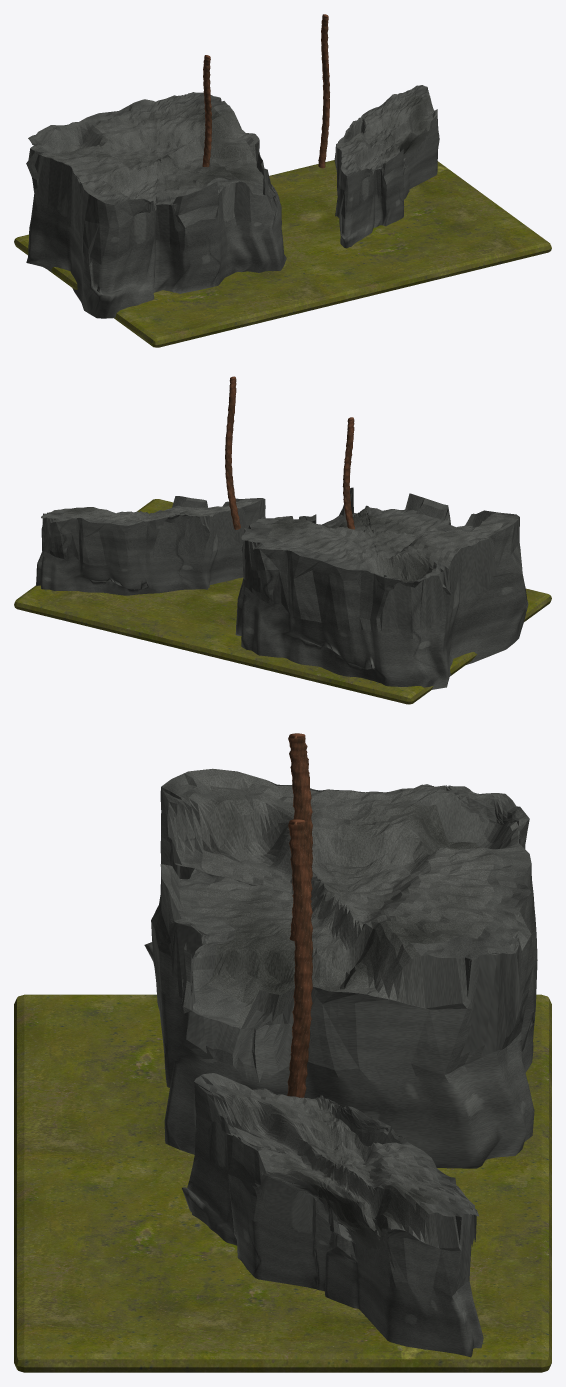
Rendered from f3_rebar_rubble.glb.
3 views of the same model, one above another, from view 1: azimuth 30°, elevation 25°; view 2: azimuth 150°, elevation 25°; view 3: azimuth 270°, elevation 25° (orthographic). The views are drawn at different scales.
Visible parts, largest first — view 1: f3_damp_concrete_surface, F3_CONCRETE_BROKEN_INTERIOR_WITH_EMBEDDED_STONES_surface, F3_OLD_CONCRETE_INTACT_AND_FRACTURE_surface, F3_CONCRETE_BROKEN_INTERIOR_WITH_EMBEDDED_STONES.001_surface, F3_OLD_CONCRETE_INTACT_AND_FRACTURE.001_surface, oxidized_reinforcing_steel.001_surface, oxidized_reinforcing_steel_surface; view 2: F3_CONCRETE_BROKEN_INTERIOR_WITH_EMBEDDED_STONES_surface, F3_CONCRETE_BROKEN_INTERIOR_WITH_EMBEDDED_STONES.001_surface, f3_damp_concrete_surface, F3_OLD_CONCRETE_INTACT_AND_FRACTURE_surface, F3_OLD_CONCRETE_INTACT_AND_FRACTURE.001_surface, oxidized_reinforcing_steel.001_surface, oxidized_reinforcing_steel_surface; view 3: f3_damp_concrete_surface, F3_CONCRETE_BROKEN_INTERIOR_WITH_EMBEDDED_STONES_surface, F3_OLD_CONCRETE_INTACT_AND_FRACTURE_surface, F3_CONCRETE_BROKEN_INTERIOR_WITH_EMBEDDED_STONES.001_surface, F3_OLD_CONCRETE_INTACT_AND_FRACTURE.001_surface, oxidized_reinforcing_steel.001_surface, oxidized_reinforcing_steel_surface.
Part boxes in pixels (left/top/right/bottom): f3_damp_concrete_surface: left=14, top=160, right=551, bottom=347; F3_CONCRETE_BROKEN_INTERIOR_WITH_EMBEDDED_STONES_surface: left=26, top=92, right=286, bottom=318; F3_OLD_CONCRETE_INTACT_AND_FRACTURE_surface: left=44, top=103, right=272, bottom=203; F3_CONCRETE_BROKEN_INTERIOR_WITH_EMBEDDED_STONES.001_surface: left=334, top=85, right=439, bottom=248; F3_OLD_CONCRETE_INTACT_AND_FRACTURE.001_surface: left=336, top=93, right=437, bottom=173; oxidized_reinforcing_steel.001_surface: left=318, top=14, right=329, bottom=168; oxidized_reinforcing_steel_surface: left=202, top=55, right=211, bottom=167; F3_CONCRETE_BROKEN_INTERIOR_WITH_EMBEDDED_STONES_surface: left=235, top=487, right=528, bottom=689; F3_CONCRETE_BROKEN_INTERIOR_WITH_EMBEDDED_STONES.001_surface: left=36, top=496, right=265, bottom=595; f3_damp_concrete_surface: left=14, top=499, right=551, bottom=704; F3_OLD_CONCRETE_INTACT_AND_FRACTURE_surface: left=262, top=509, right=518, bottom=581; F3_OLD_CONCRETE_INTACT_AND_FRACTURE.001_surface: left=62, top=499, right=262, bottom=521; oxidized_reinforcing_steel.001_surface: left=225, top=376, right=240, bottom=529; oxidized_reinforcing_steel_surface: left=342, top=417, right=354, bottom=529; f3_damp_concrete_surface: left=14, top=994, right=551, bottom=1372; F3_CONCRETE_BROKEN_INTERIOR_WITH_EMBEDDED_STONES_surface: left=144, top=771, right=537, bottom=1168; F3_OLD_CONCRETE_INTACT_AND_FRACTURE_surface: left=189, top=768, right=494, bottom=1028; F3_CONCRETE_BROKEN_INTERIOR_WITH_EMBEDDED_STONES.001_surface: left=182, top=1074, right=483, bottom=1357; F3_OLD_CONCRETE_INTACT_AND_FRACTURE.001_surface: left=203, top=1073, right=450, bottom=1248; oxidized_reinforcing_steel.001_surface: left=287, top=819, right=312, bottom=1097; oxidized_reinforcing_steel_surface: left=288, top=733, right=312, bottom=940.
Size of the model in its own units: 2.19 by 1.12 by 1.3.
7 materials, 7 textured.
